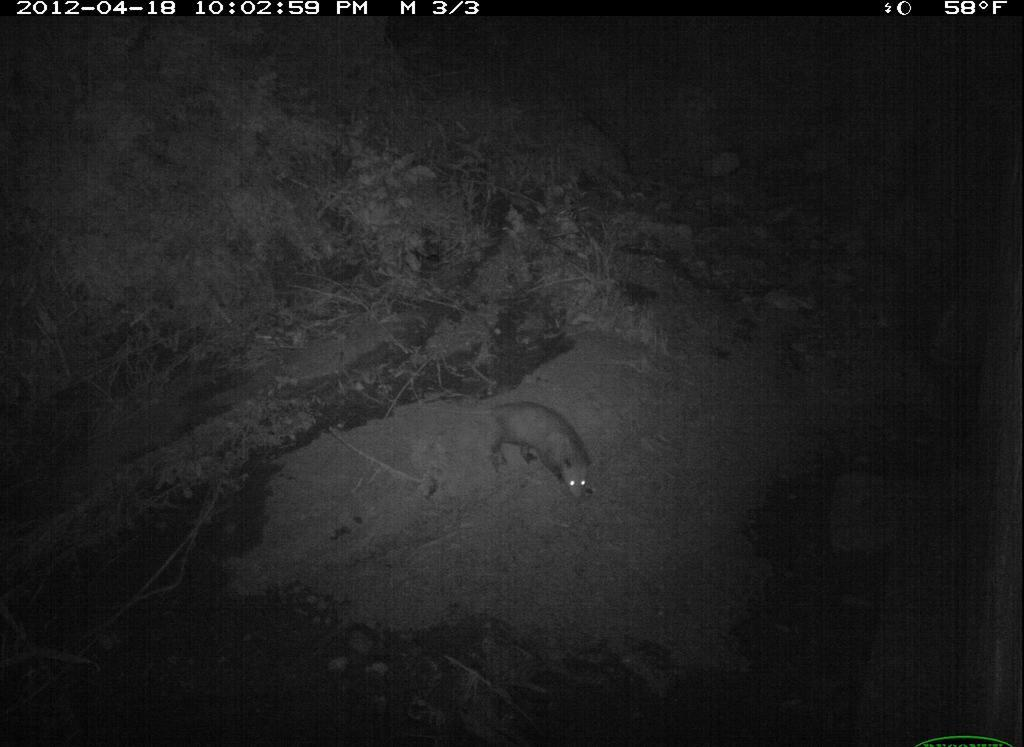opossum: (478, 393, 601, 510)
